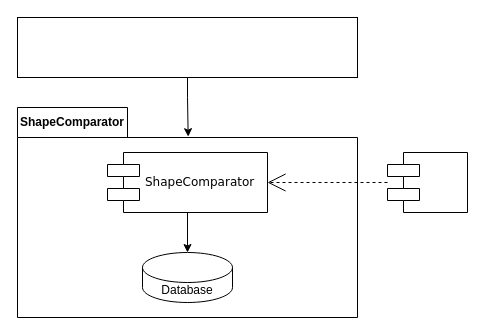
The diagram is 485 pixels wide and 335 high, and some of its shapes have lost their labels. The box of each missing label's shape, as (x1, y1, x2, y2) in pixels:
QSE: (386, 152, 468, 212)
Web Browser: (16, 16, 358, 78)
